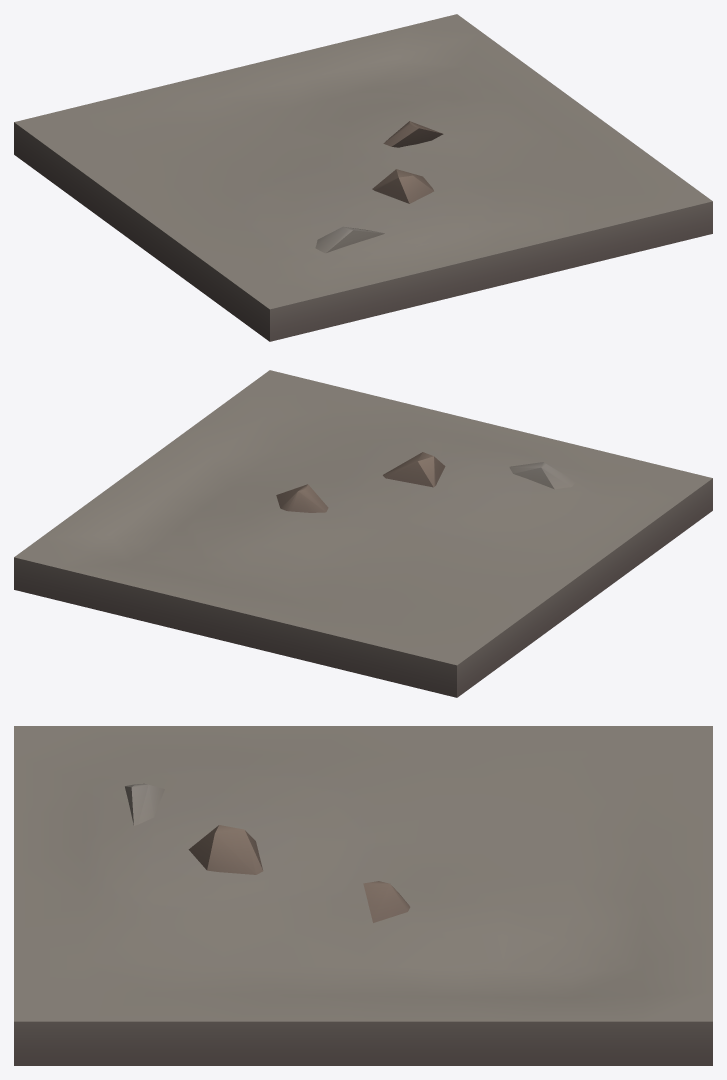
Rendered from floor_cave_small_E.glb.
The picture shows the model from 3 angles, top to bottom: view 1: azimuth 30°, elevation 25°; view 2: azimuth 150°, elevation 25°; view 3: azimuth 270°, elevation 25°; orthographic projection. The views are drawn at different scales.
Parts seen in each view (by area): view 1: Item; view 2: Item; view 3: Item.
Part boxes in pixels (<box>): Item: <box>14,14,712,341</box>; Item: <box>14,370,712,697</box>; Item: <box>14,726,712,1065</box>.
Bounding box in the file's own units: 2 × 0.2572 × 2.
1 material, 1 textured.
